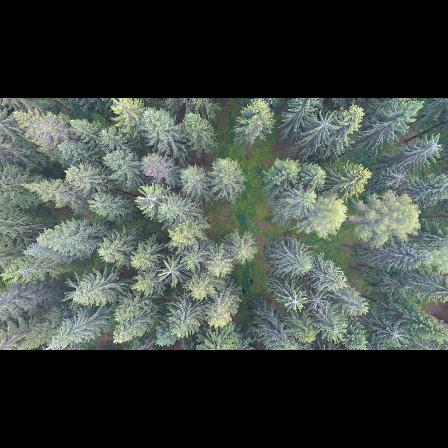Sick: (308, 106, 346, 137), (381, 317, 408, 348), (155, 255, 181, 285), (384, 165, 410, 191), (421, 135, 444, 160)
